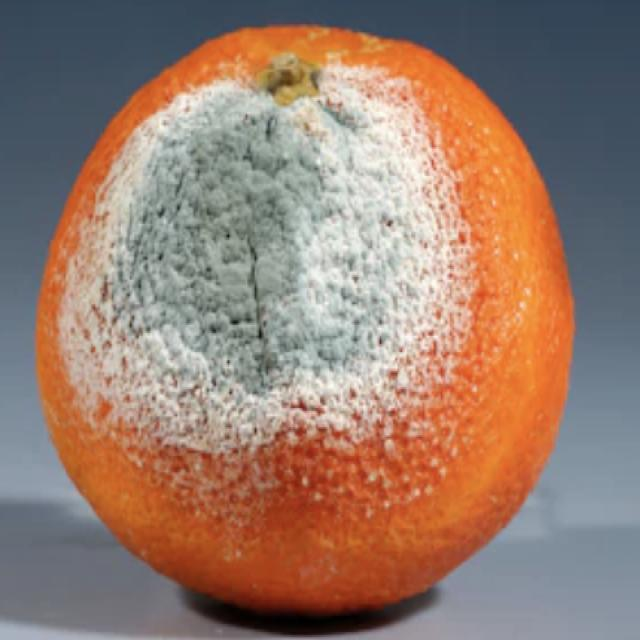sedikit_busuk: (40, 31, 574, 609)
